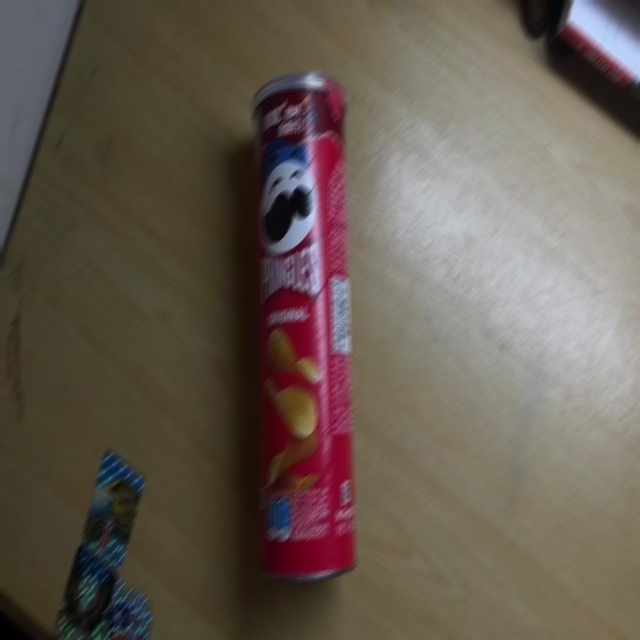Pringles: (250, 70, 357, 585)
